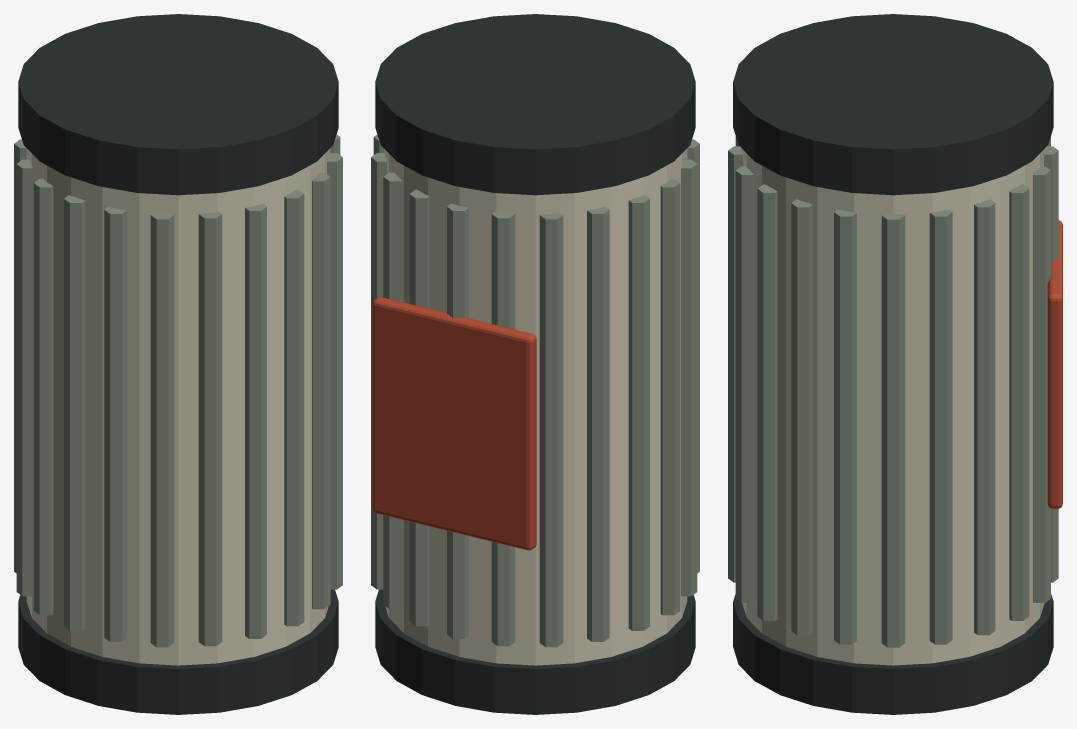
The model's file is air_filter.glb.
The picture shows the model from 3 angles, left to right: view 1: azimuth 30°, elevation 25°; view 2: azimuth 150°, elevation 25°; view 3: azimuth 270°, elevation 25°; orthographic projection.
Visible parts, largest first — view 1: air_filter; view 2: air_filter; view 3: air_filter.
Part boxes in pixels (<box>): air_filter: <box>14,14,342,714</box>; air_filter: <box>371,14,699,714</box>; air_filter: <box>728,14,1062,714</box>.
Bounding box in the file's own units: 0.1941 × 0.37 × 0.1985.
